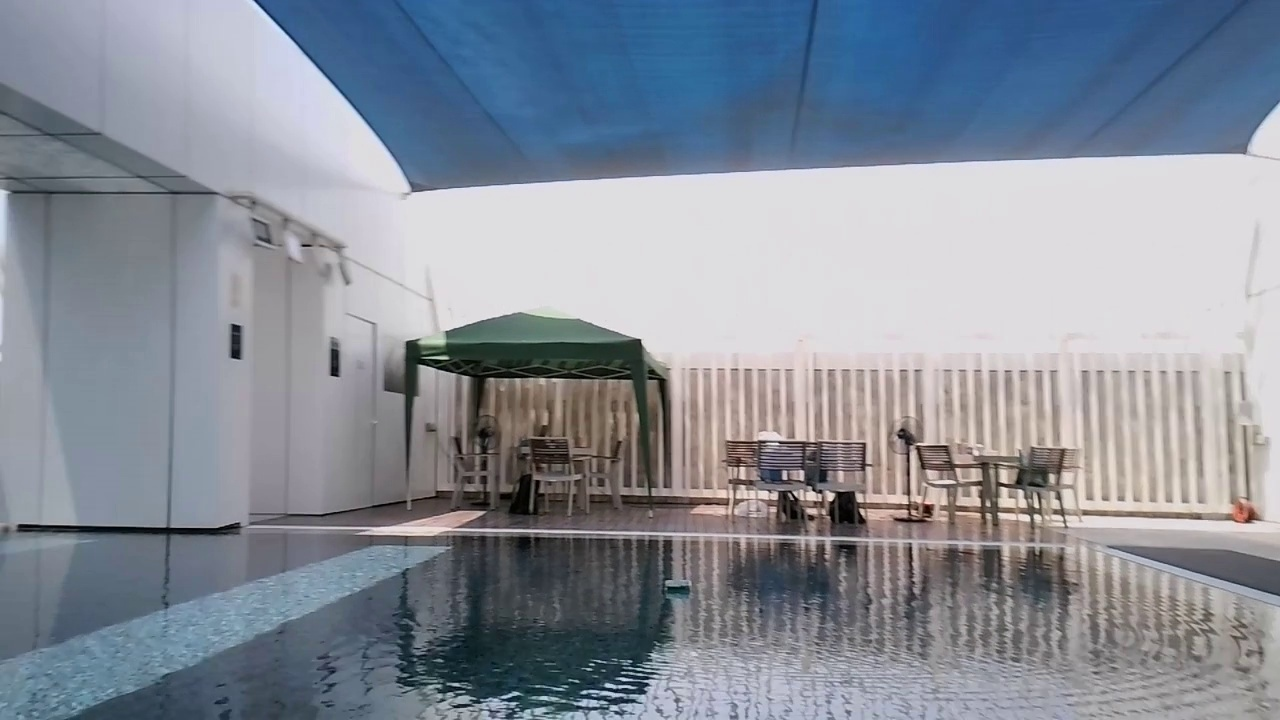debris: (662, 573, 696, 602)
